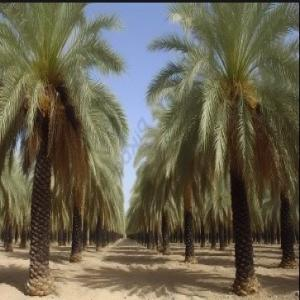palm tree: (146, 1, 299, 294), (0, 1, 128, 295)
